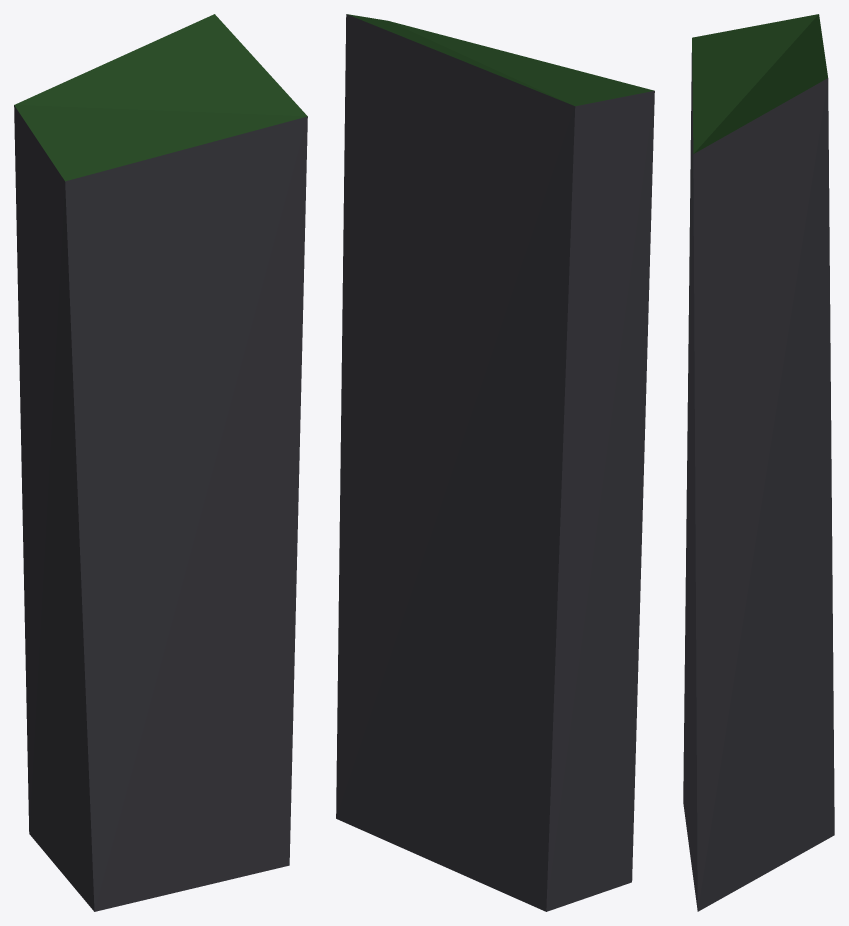
The model's file is stone_0.gltf.
3 views of the same model, side by side, from view 1: azimuth 30°, elevation 25°; view 2: azimuth 150°, elevation 25°; view 3: azimuth 270°, elevation 25° (orthographic). The views are drawn at different scales.
Size of the model in its own units: 1.49 by 4.72 by 0.782.
